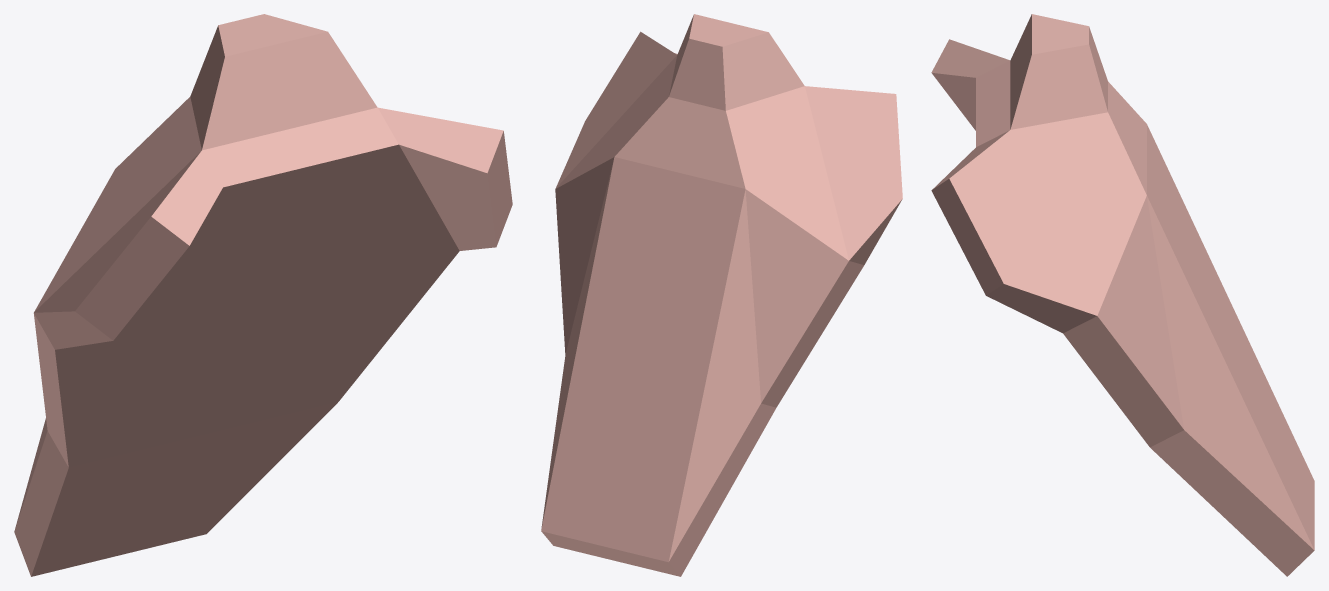
The model's file is cb_side_skirt_2.gltf.
3 renders of one model, left to right at view 1: azimuth 30°, elevation 25°; view 2: azimuth 150°, elevation 25°; view 3: azimuth 270°, elevation 25°, orthographic. The views are drawn at different scales.
Parts seen in each view (by area): view 1: Cube.002; view 2: Cube.002; view 3: Cube.002.
Boxes of the visible parts, bbox=[...] form: Cube.002: bbox=[14, 14, 512, 576]; Cube.002: bbox=[541, 14, 902, 576]; Cube.002: bbox=[931, 14, 1314, 576].
Size of the model in its own units: 2.33 by 3.19 by 2.18.
